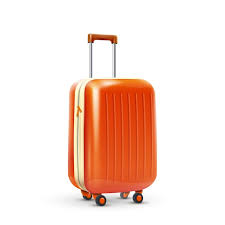suitcase: (65, 33, 159, 209)
